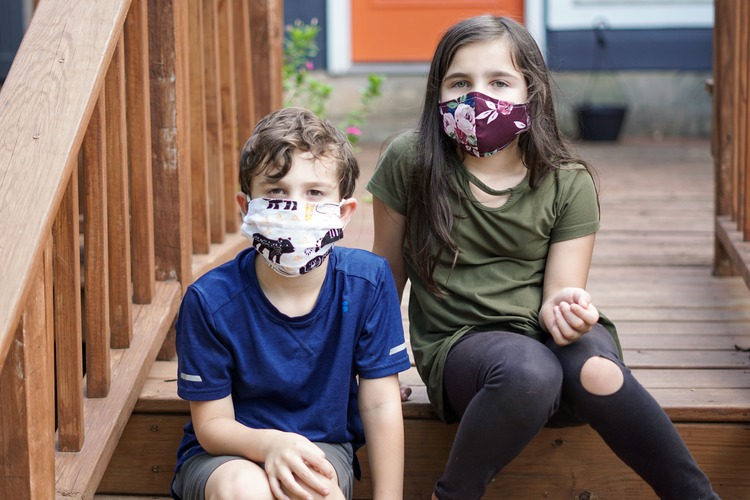with_mask: (251, 157, 342, 269), (439, 53, 528, 156)
